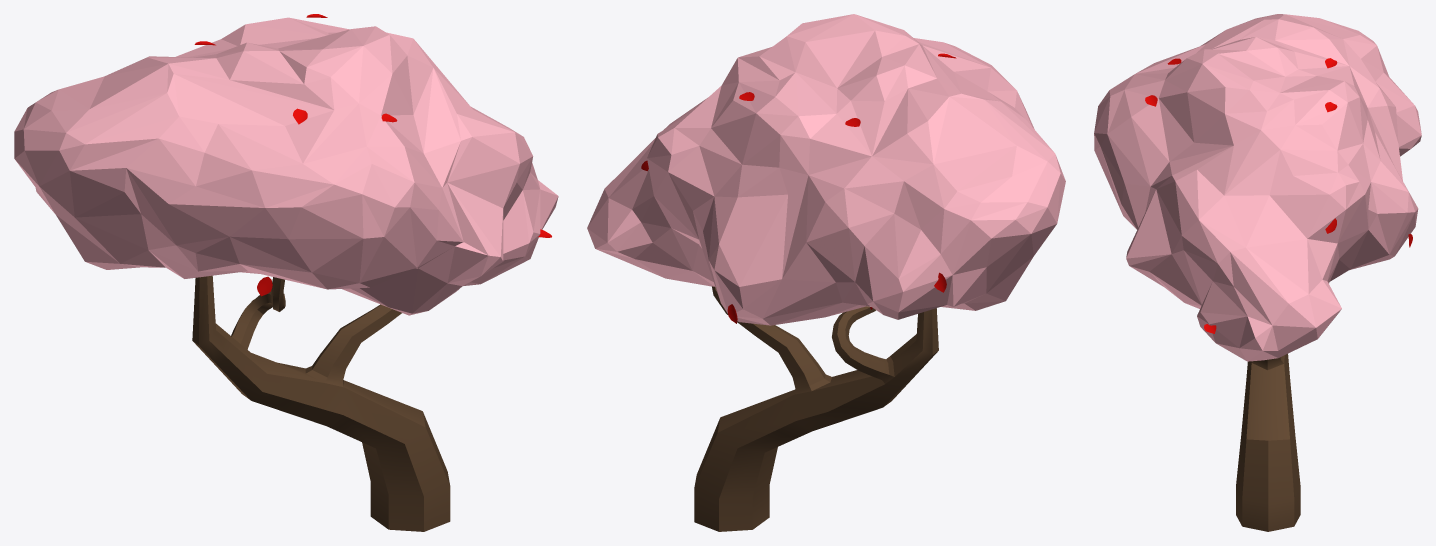
The model's file is cherryBlossom.fbx.
The picture shows the model from 3 angles, left to right: view 1: azimuth 30°, elevation 25°; view 2: azimuth 150°, elevation 25°; view 3: azimuth 270°, elevation 25°; orthographic projection. The views are drawn at different scales.
Parts seen in each view (by area): view 1: Low-Poly Cherry Blossom Tree 3D Model; view 2: Low-Poly Cherry Blossom Tree 3D Model; view 3: Low-Poly Cherry Blossom Tree 3D Model.
Part boxes in pixels (box(x1,y1,x2,y2)): Low-Poly Cherry Blossom Tree 3D Model: box(14, 14, 558, 531); Low-Poly Cherry Blossom Tree 3D Model: box(587, 14, 1065, 531); Low-Poly Cherry Blossom Tree 3D Model: box(1094, 14, 1421, 531).
Size of the model in its own units: 571 by 567 by 402.
